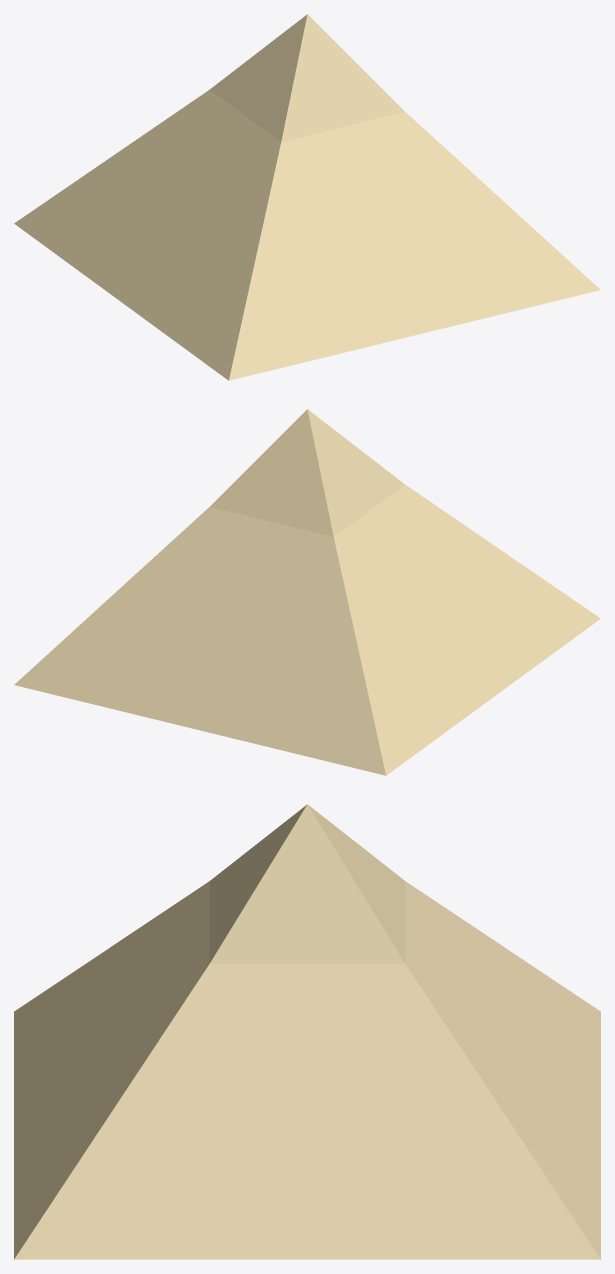
Rendered from giza-provenance-twin.glb.
3 renders of one model, top to bottom at view 1: azimuth 30°, elevation 25°; view 2: azimuth 150°, elevation 25°; view 3: azimuth 270°, elevation 25°, orthographic. The views are drawn at different scales.
Parts seen in each view (by area): view 1: shape_khufu, shape_khafre; view 2: shape_khufu, shape_khafre; view 3: shape_khufu, shape_khafre.
Boxes of the visible parts, box(x1,y1,x2,y2) form: shape_khufu: box(14, 89, 600, 380); shape_khafre: box(210, 14, 404, 141); shape_khufu: box(14, 484, 600, 775); shape_khafre: box(210, 409, 404, 536); shape_khufu: box(14, 881, 600, 1259); shape_khafre: box(209, 804, 405, 963).
Bounding box in the file's own units: 230 × 144 × 230.
